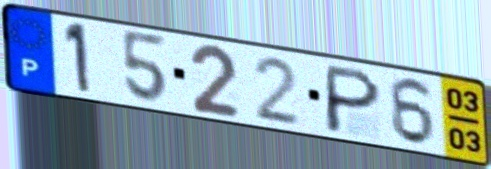1: (61, 20, 94, 97)
2: (187, 42, 243, 122), (250, 54, 302, 128)
5: (119, 26, 170, 108)
6: (386, 76, 438, 149)
P: (321, 62, 385, 137)
